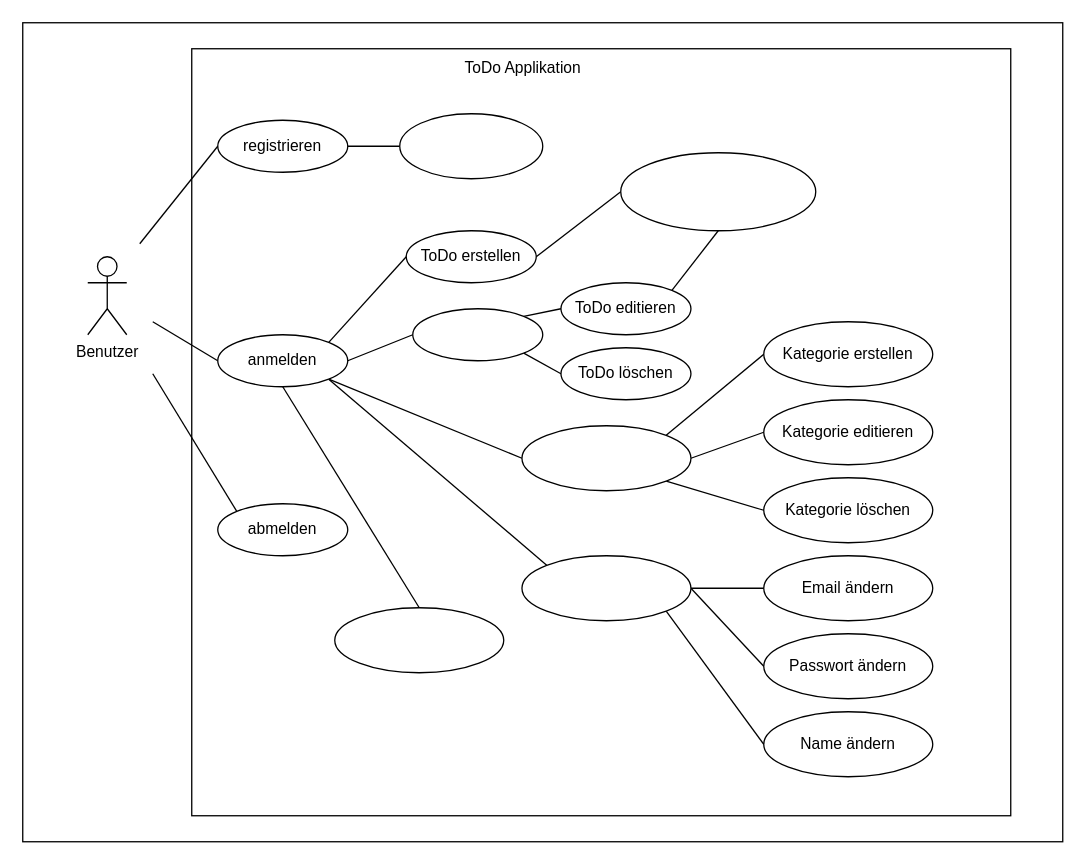
Image size: 1086x864. Some labels were removed from this diagram. The centre of each missing label's shape, as x and y in pixels:
"Kategorien verwalten" belongs at (x=606, y=457).
"Profil verwalten" belongs at (x=606, y=587).
"Registrierung verifizieren" belongs at (x=470, y=145).
"Theme ändern" belongs at (x=418, y=639).
"ToDo einer Kategorie hinzufügen" belongs at (x=717, y=191).
"ToDo öffnen" belongs at (x=477, y=334).
